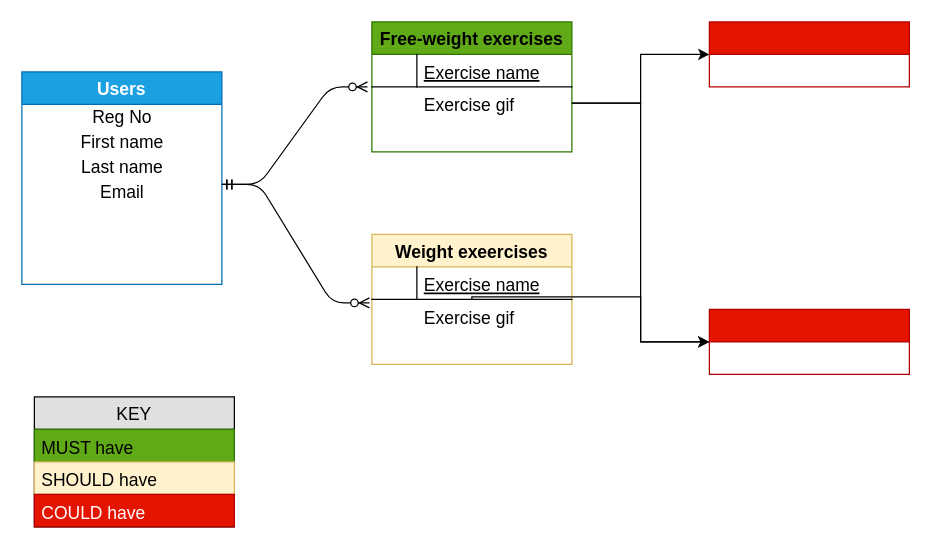
The diagram is 931 pixels wide and 553 high, and some of its shapes have lost their labels. The centre of each missing label's shape, as x and y in pixels:
"Calories meter" goes at (808,341).
"Timer" goes at (808,54).
